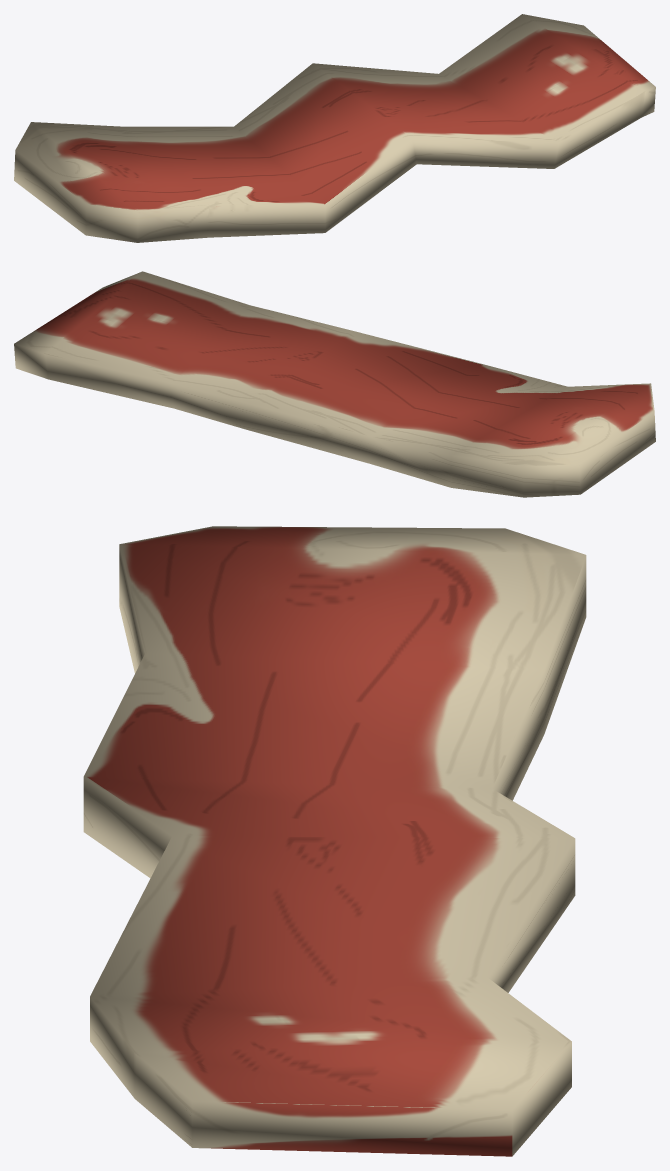
Rendered from Bacon.fbx.
The picture shows the model from 3 angles, top to bottom: view 1: azimuth 30°, elevation 25°; view 2: azimuth 150°, elevation 25°; view 3: azimuth 270°, elevation 25°; orthographic projection. The views are drawn at different scales.
Parts seen in each view (by area): view 1: Cube; view 2: Cube; view 3: Cube.
Boxes of the visible parts, x1,y1,x2,y2 form: Cube: (14, 14, 655, 242); Cube: (14, 271, 655, 497); Cube: (83, 526, 586, 1156).
Bounding box in the file's own units: 27.11 × 2.65 × 10.41.
